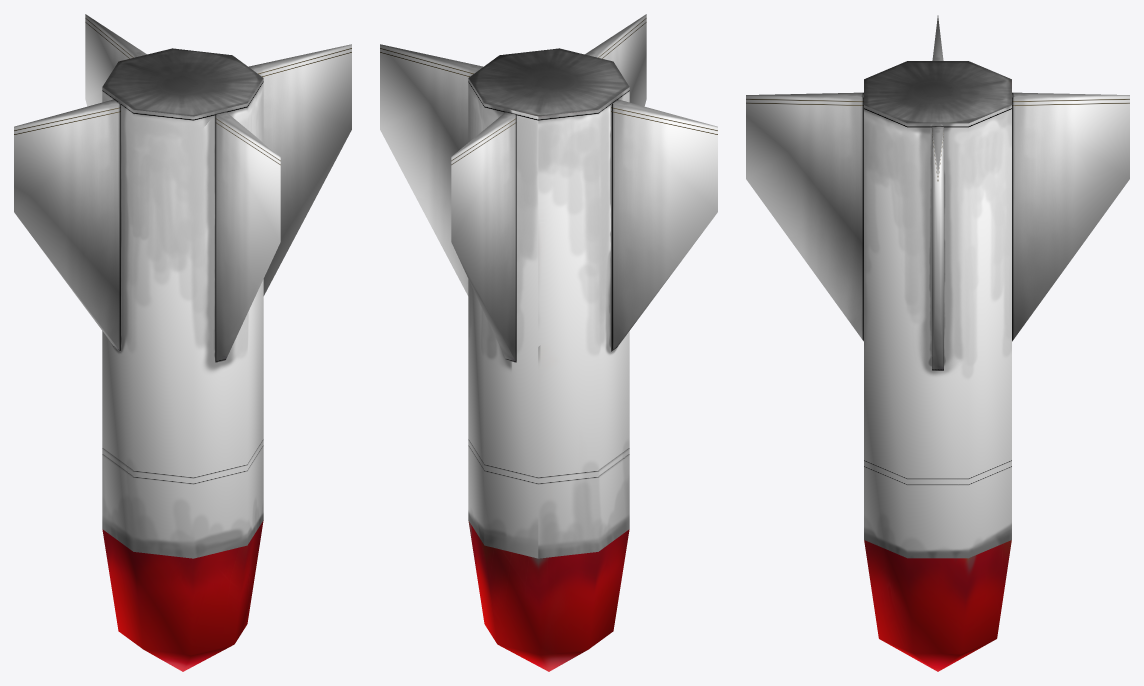
File: missile.fbx
3 renders of one model, left to right at view 1: azimuth 30°, elevation 25°; view 2: azimuth 150°, elevation 25°; view 3: azimuth 270°, elevation 25°, orthographic.
Visible parts, largest first — view 1: Cube; view 2: Cube; view 3: Cube.
Boxes of the visible parts, x1=… form: Cube: x1=14, y1=14, x2=351, y2=671; Cube: x1=380, y1=14, x2=717, y2=671; Cube: x1=746, y1=15, x2=1129, y2=671.
Bounding box in the file's own units: 1.2 × 2 × 1.2.
Materials: 1 (1 with a texture image).
